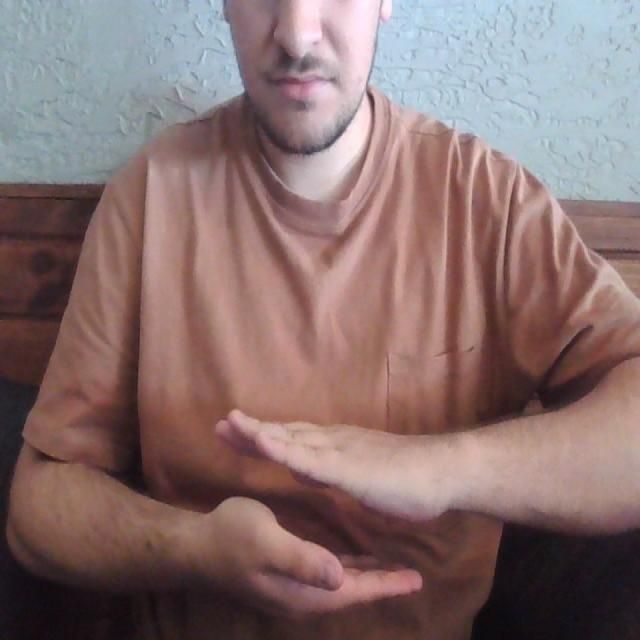Arkadas: (121, 391, 556, 620)
